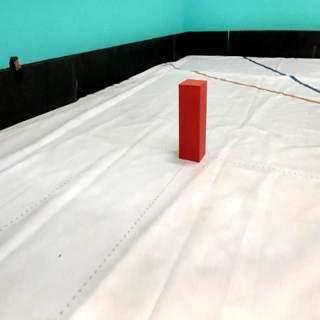redbox: (176, 76, 208, 162)
